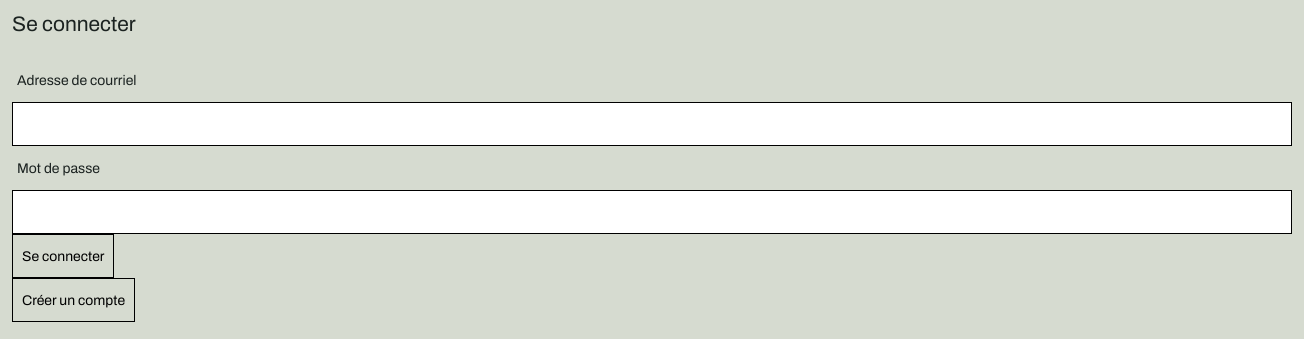
Scenario: la soumission est annoncée pendant qu’elle dure › désactive le bouton et dit qu’elle est en cours
Type "joueuse@exemple.test" into the field labelled "Adresse de courriel". click: (652, 124)
box: [12, 102, 1292, 146]
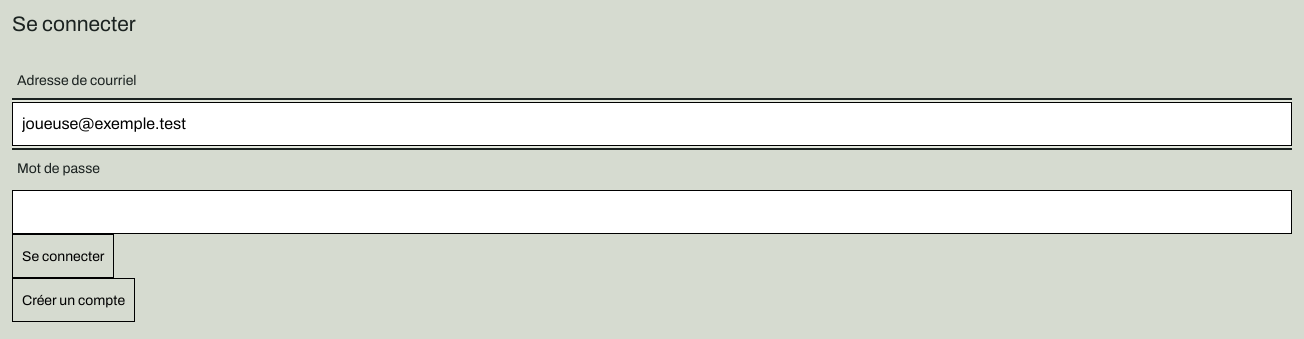
Type "un-mot-de-passe-solide" into the password field labelled "Mot de passe". click: (652, 212)
box: [12, 190, 1292, 234]
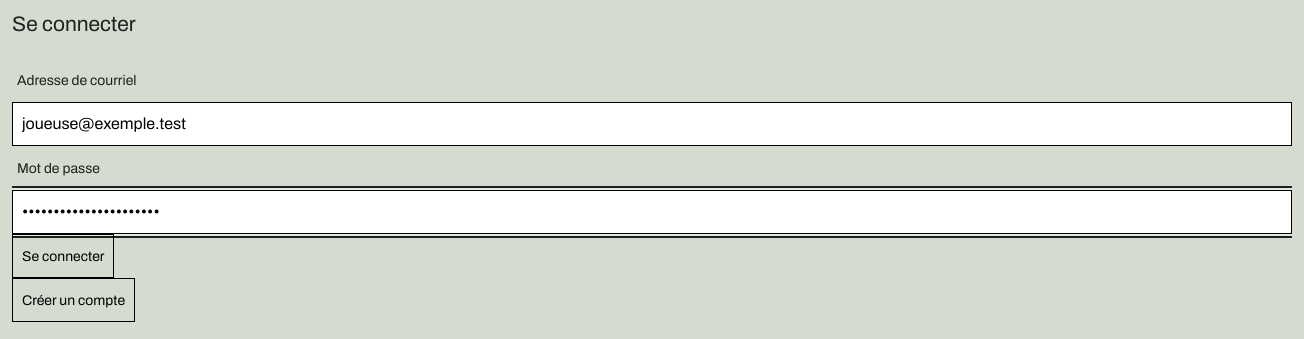
Click the button "Se connecter". click: (63, 256)
box: [12, 234, 114, 278]
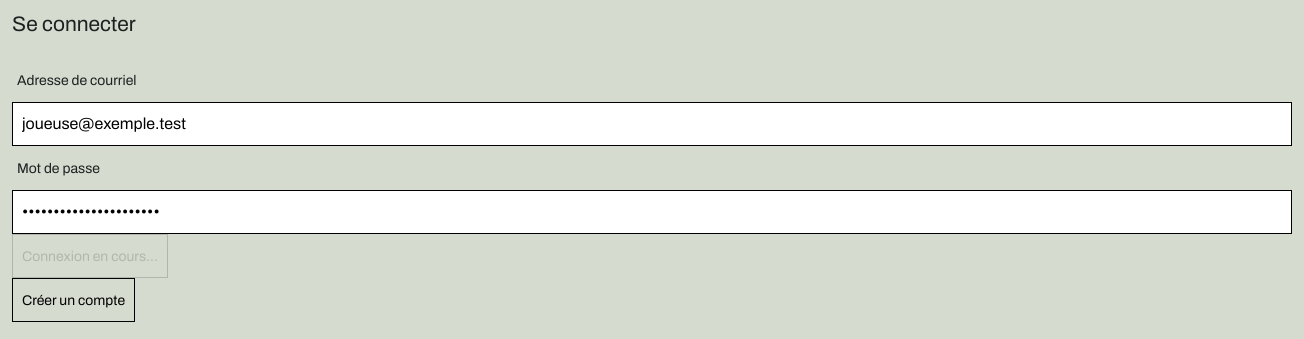
Expected: the button "Connexion en cours…" is disabled, [12, 234, 168, 278]
